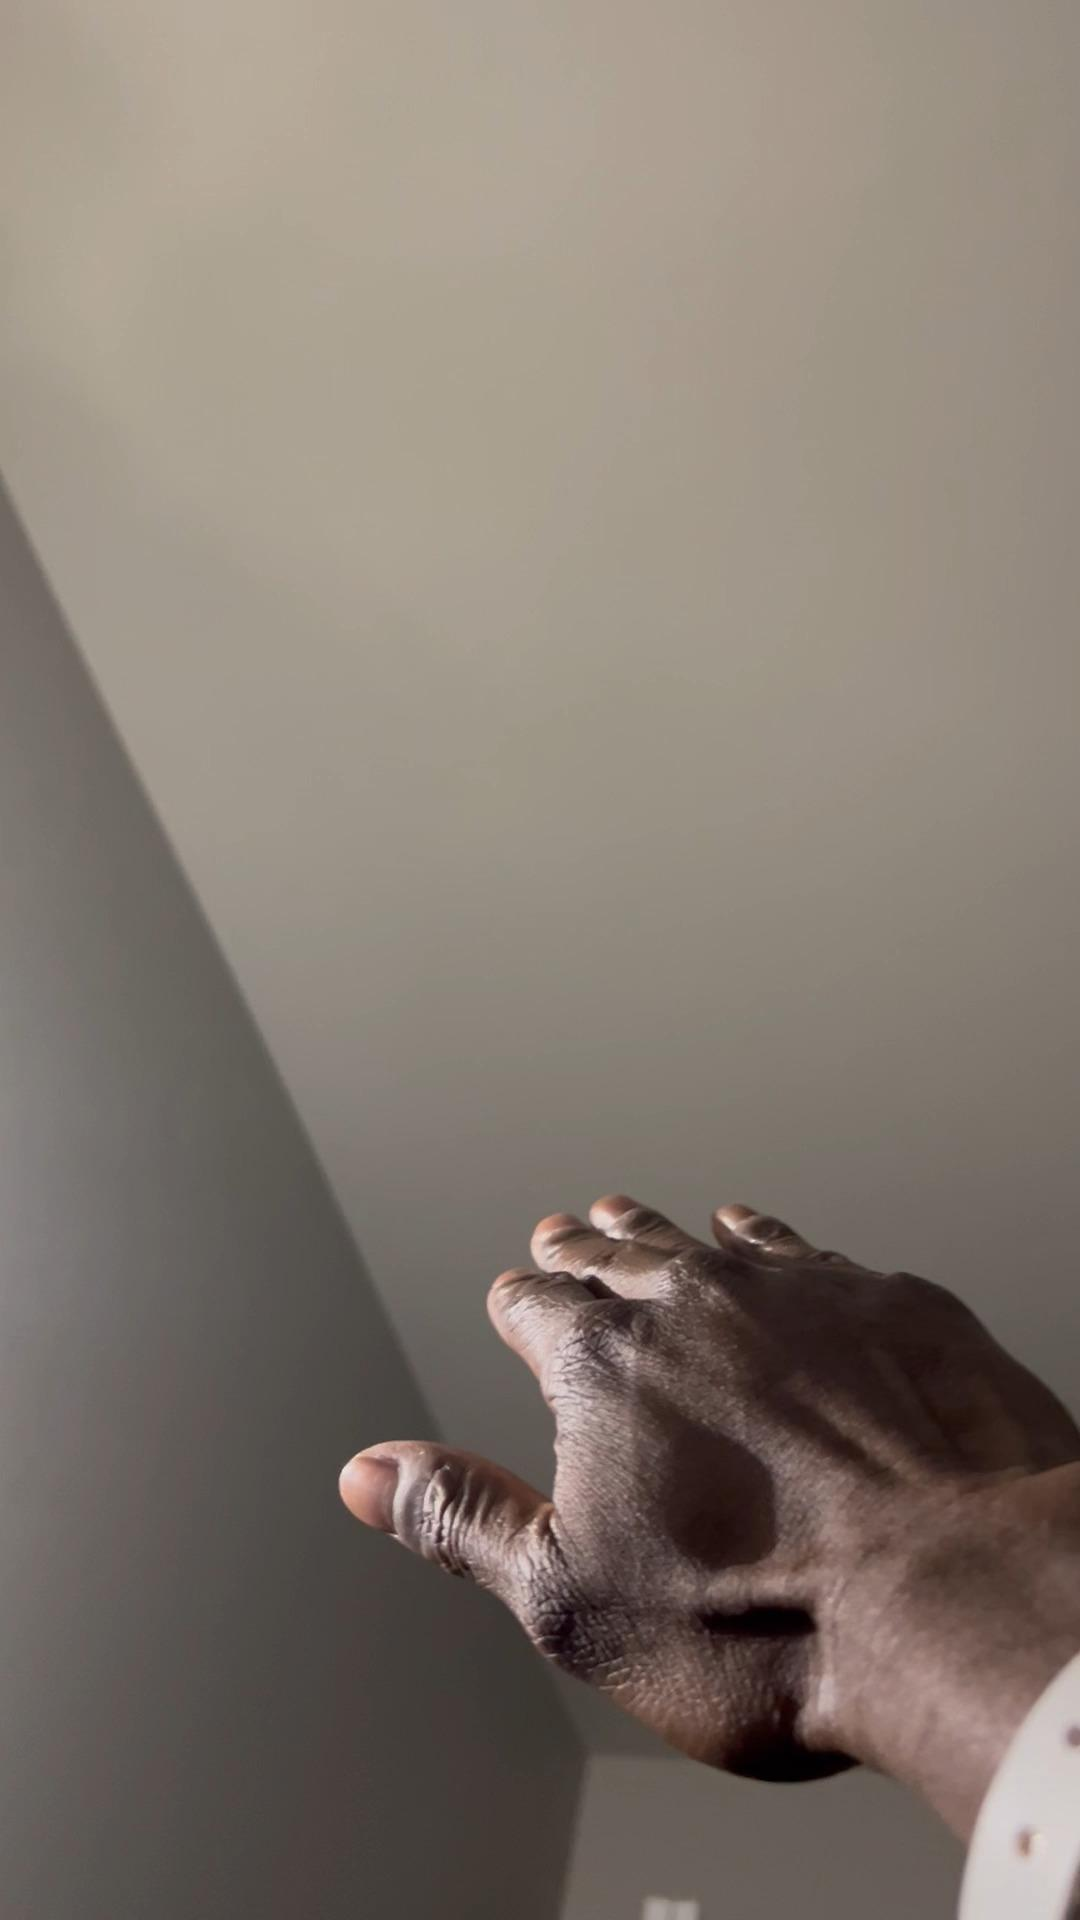Paper: (323, 1193, 1080, 1791)
